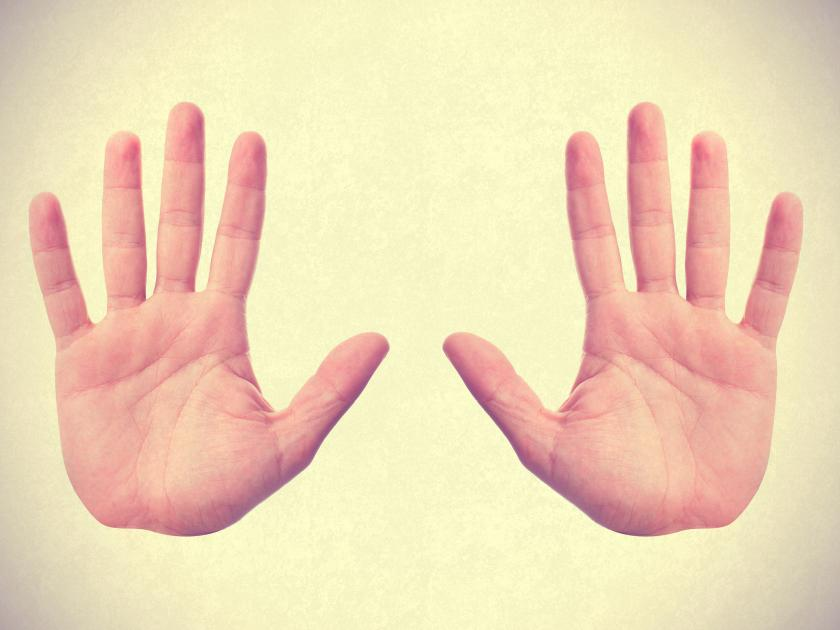finger: (202, 119, 272, 295), (25, 181, 89, 368), (153, 92, 209, 295), (626, 101, 678, 295), (561, 129, 617, 308), (741, 186, 810, 331), (102, 122, 146, 314), (684, 130, 730, 304)
